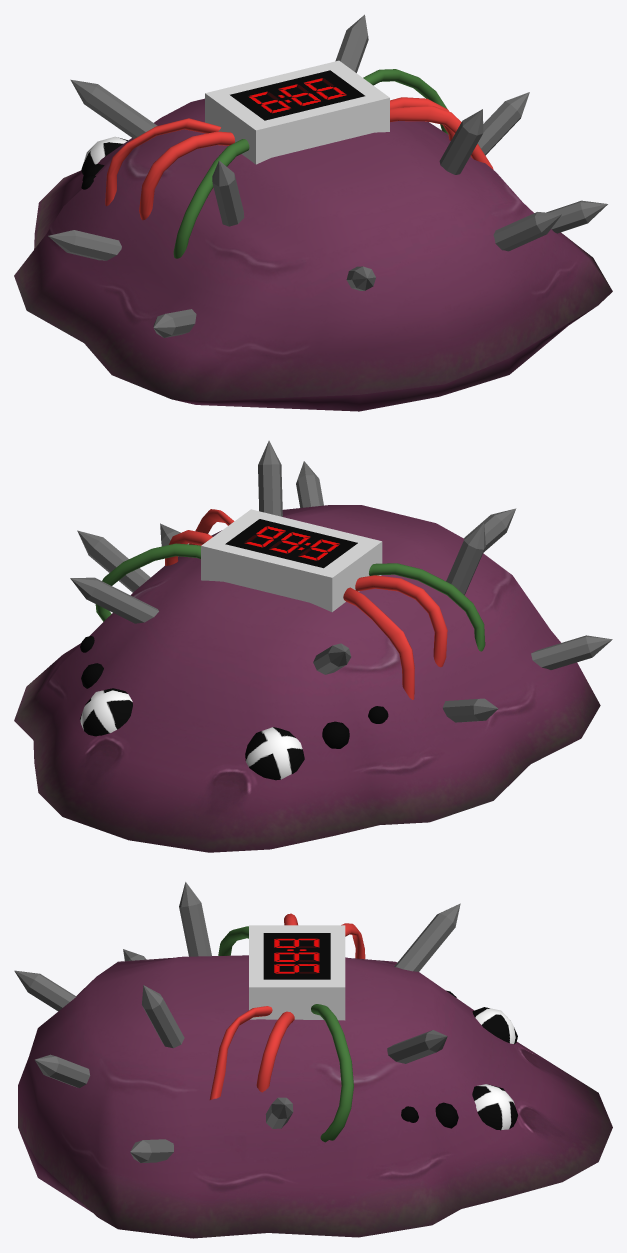
File: AlienC4.fbx
The picture shows the model from 3 angles, top to bottom: view 1: azimuth 30°, elevation 25°; view 2: azimuth 150°, elevation 25°; view 3: azimuth 270°, elevation 25°; orthographic projection. The views are drawn at different scales.
Visible parts, largest first — view 1: AlienBody; view 2: AlienBody; view 3: AlienBody.
Boxes of the visible parts, bbox=[...] form: AlienBody: bbox=[14, 14, 612, 411]; AlienBody: bbox=[14, 440, 612, 852]; AlienBody: bbox=[14, 882, 612, 1238].
Size of the model in its own units: 368 by 180 by 419.
6 materials, 1 textured.
